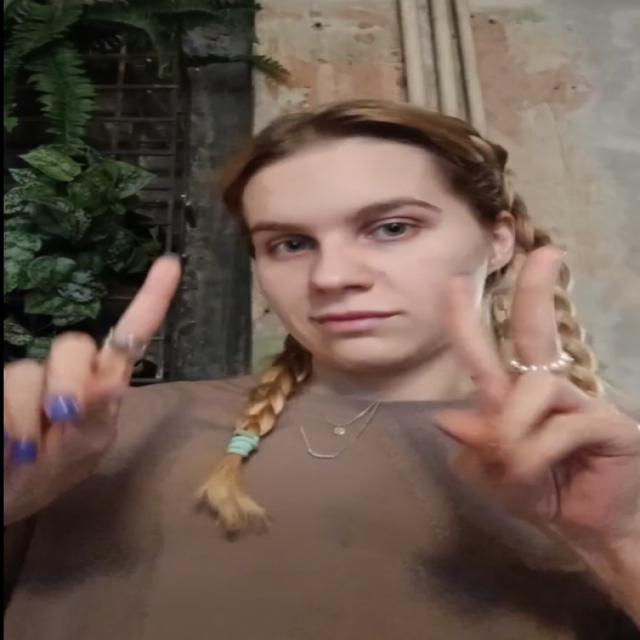earlobe: (484, 252, 507, 272)
eye: (367, 217, 419, 241), (268, 238, 319, 257)
nose: (318, 287, 372, 313)
wholeear: (484, 210, 516, 272)
